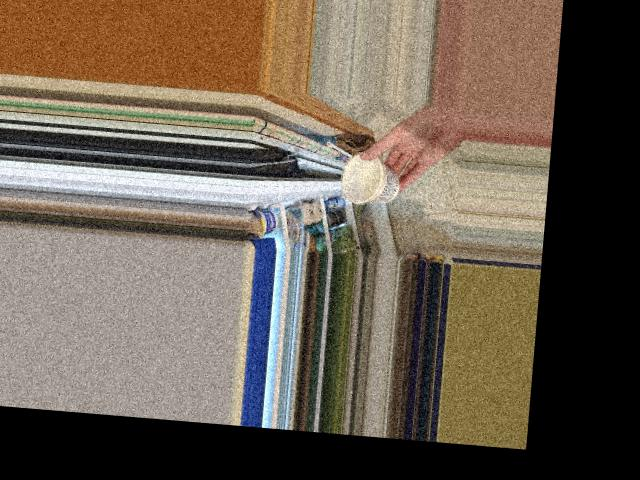cotage: (343, 153, 402, 203)
